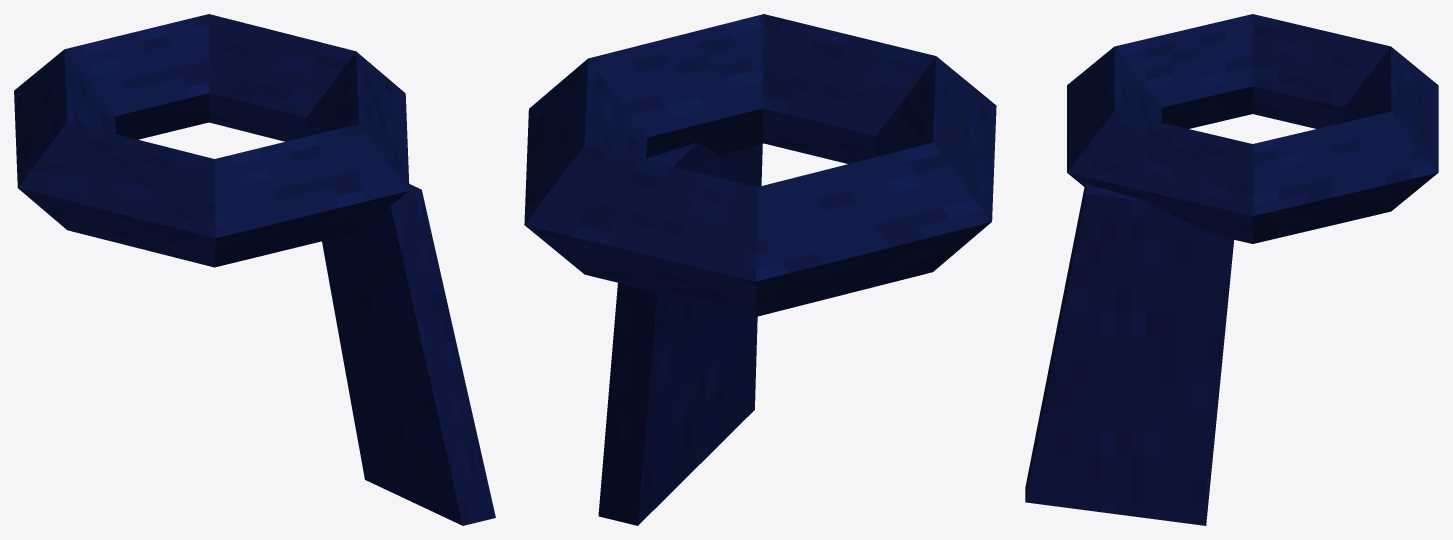
The model's file is bufanda.glb.
3 views of the same model, side by side, from view 1: azimuth 30°, elevation 25°; view 2: azimuth 150°, elevation 25°; view 3: azimuth 270°, elevation 25° (orthographic). The views are drawn at different scales.
Visible parts, largest first — view 1: vuelta, cola; view 2: vuelta, cola; view 3: vuelta, cola.
Part boxes in pixels (<box>): vuelta: <box>14,14,409,267</box>; cola: <box>322,184,495,525</box>; vuelta: <box>524,14,996,316</box>; cola: <box>598,142,762,525</box>; vuelta: <box>1067,14,1438,243</box>; cola: <box>1025,183,1233,525</box>.
Bounding box in the file's own units: 0.3 × 0.3 × 0.3.
1 material, 1 textured.
